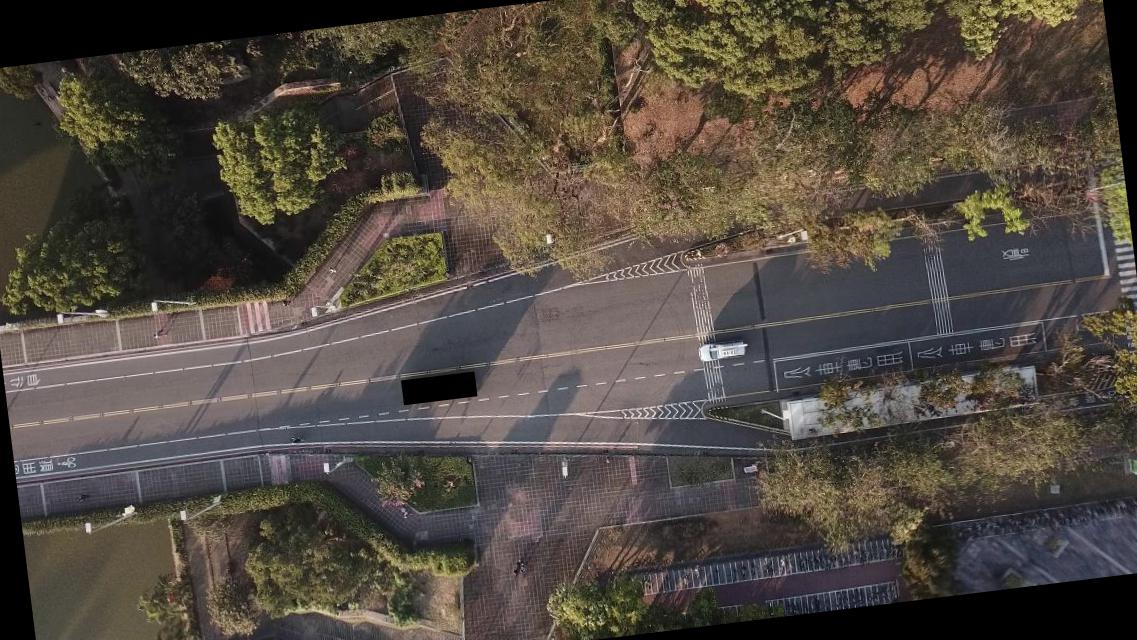vehicle: (697, 338, 749, 362)
